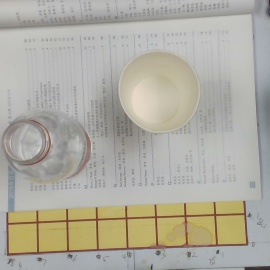bottle: (3, 112, 108, 186)
cup: (113, 47, 199, 135)
